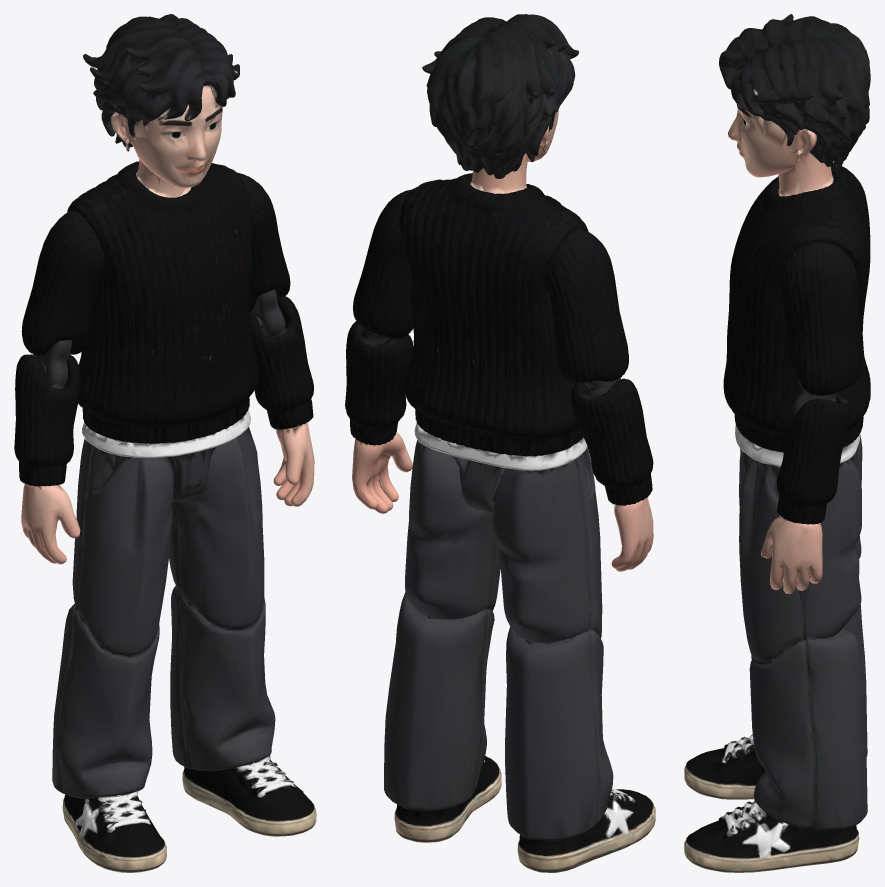
Rendered from figure.glb.
3 renders of one model, left to right at view 1: azimuth 30°, elevation 25°; view 2: azimuth 150°, elevation 25°; view 3: azimuth 270°, elevation 25°, orthographic. The views are drawn at different scales.
Parts seen in each view (by area): view 1: Meshy_AI_Urban_Vinyl_Boy_20261112_texture; view 2: Meshy_AI_Urban_Vinyl_Boy_20261112_texture; view 3: Meshy_AI_Urban_Vinyl_Boy_20261112_texture.
Boxes of the visible parts, <box> form: Meshy_AI_Urban_Vinyl_Boy_20261112_texture: <box>14,14,316,872</box>; Meshy_AI_Urban_Vinyl_Boy_20261112_texture: <box>345,14,655,872</box>; Meshy_AI_Urban_Vinyl_Boy_20261112_texture: <box>684,14,870,872</box>.
Bounding box in the file's own units: 0.7327 × 1.9 × 0.4035.
Materials: 1 (1 with a texture image).
